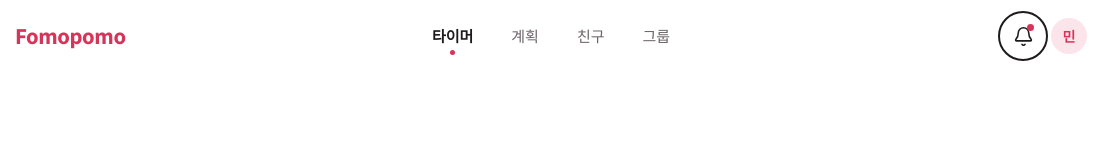
Navbar › opens the bell with Space without leaking keys to window shortcuts
Press Space in the button named "알림 1개", box [1003,16,1043,56]
Click the button named "알림 1개".
click(1023, 36)  # box [1003,16,1043,56]
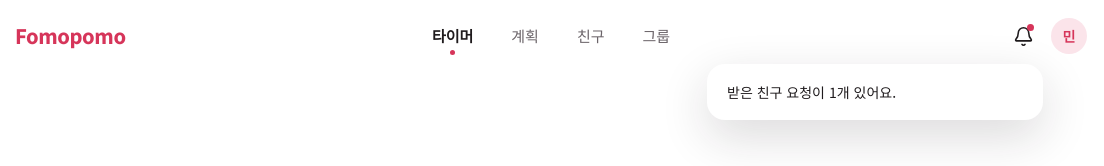
Press Space in the link "받은 친구 요청이 1개 있어요.", box [727,82,896,102]
Press Escape in the element named "알림", box [707,64,1043,120]
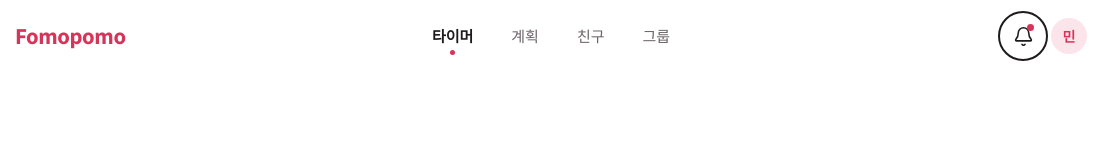
Check: the element "알림" is gone
